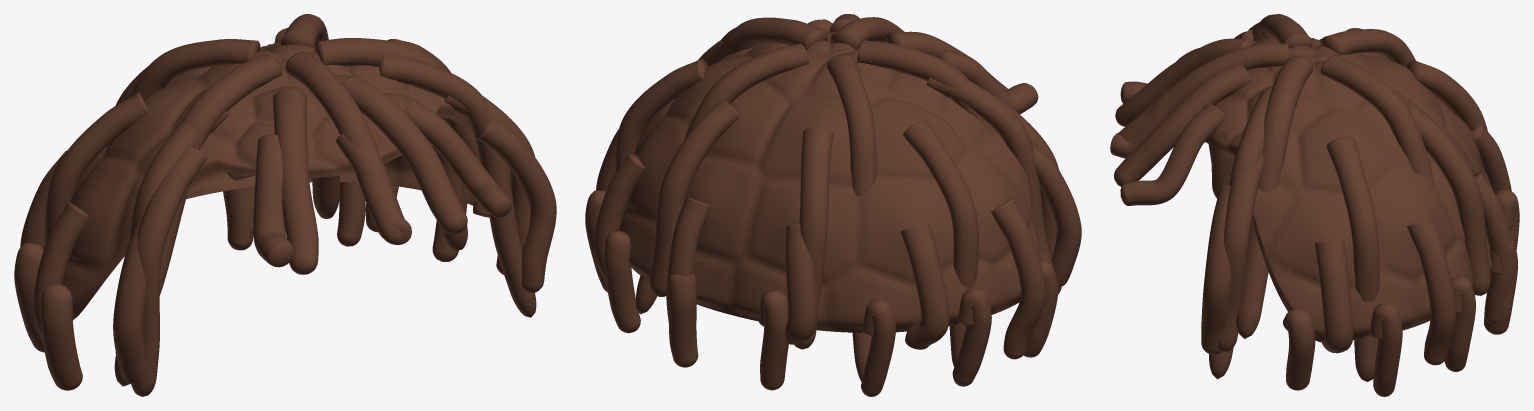
File: Masculine-locs-ears252-hair.glb
3 renders of one model, left to right at view 1: azimuth 30°, elevation 25°; view 2: azimuth 150°, elevation 25°; view 3: azimuth 270°, elevation 25°, orthographic. The views are drawn at different scales.
Parts seen in each view (by area): view 1: 226 hair / Hair252 / sectioned locs.001; view 2: 226 hair / Hair252 / sectioned locs.001; view 3: 226 hair / Hair252 / sectioned locs.001.
Part boxes in pixels (x1,y1,x2,y2): 226 hair / Hair252 / sectioned locs.001: [14, 14, 556, 396]; 226 hair / Hair252 / sectioned locs.001: [585, 14, 1081, 396]; 226 hair / Hair252 / sectioned locs.001: [1110, 14, 1519, 396].
Size of the model in its own units: 1.1 by 0.6395 by 0.8956.
